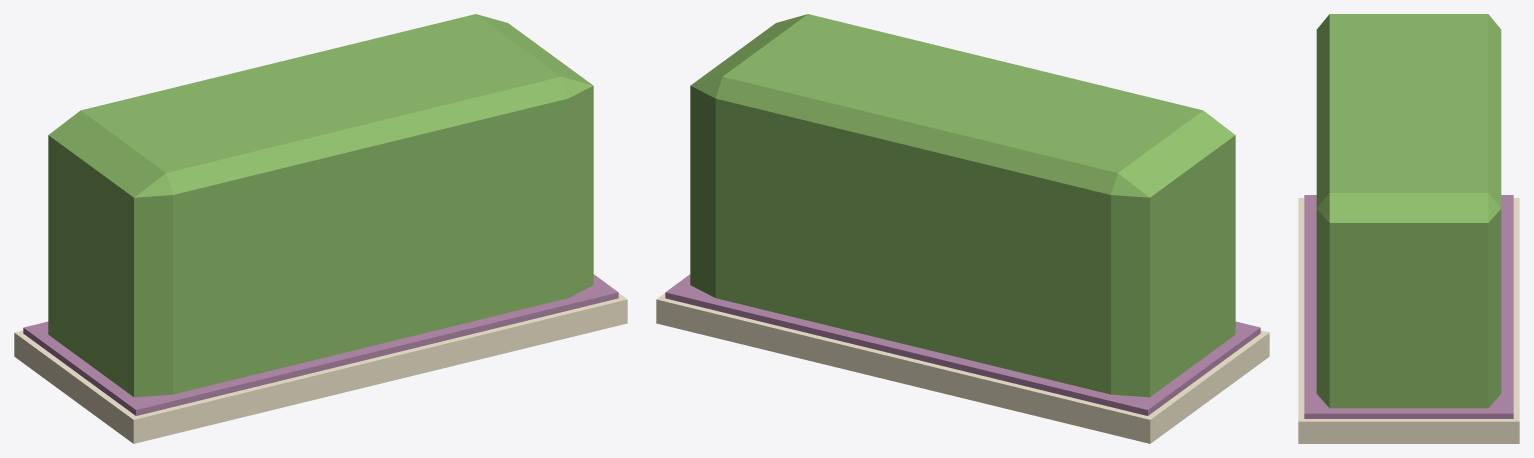
The model's file is hedge.glb.
The picture shows the model from 3 angles, left to right: view 1: azimuth 30°, elevation 25°; view 2: azimuth 150°, elevation 25°; view 3: azimuth 270°, elevation 25°; orthographic projection. The views are drawn at different scales.
Parts seen in each view (by area): view 1: city-hedge; view 2: city-hedge; view 3: city-hedge.
Boxes of the visible parts, box(x1,y1,x2,y2) form: city-hedge: box(14, 14, 627, 443); city-hedge: box(656, 14, 1269, 443); city-hedge: box(1298, 14, 1519, 443).
Bounding box in the file's own units: 0.86 × 0.41 × 0.36.
